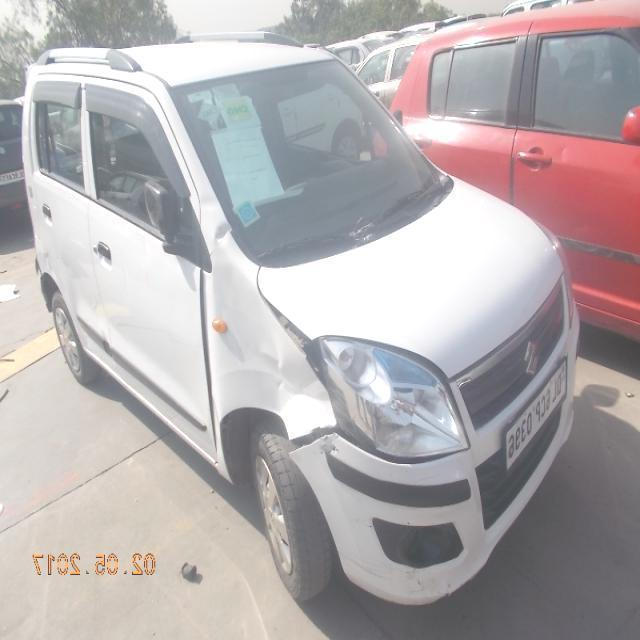minor: (220, 244, 345, 455)
